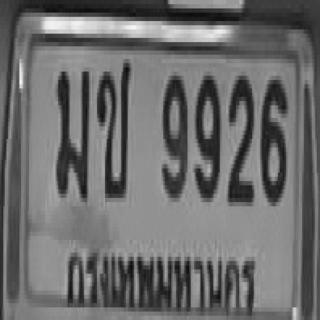A10: (95, 55, 129, 194)
A33: (55, 65, 87, 196)
N02: (226, 72, 252, 202)
N06: (260, 76, 286, 202)
N09: (194, 72, 220, 198), (160, 72, 186, 194)
